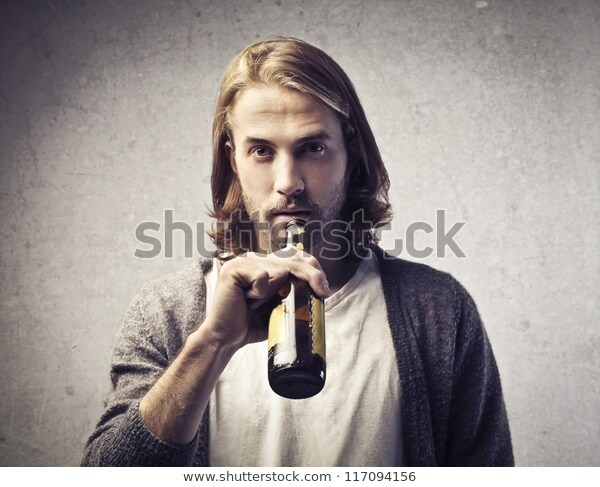beerBottle: (268, 229, 328, 394)
